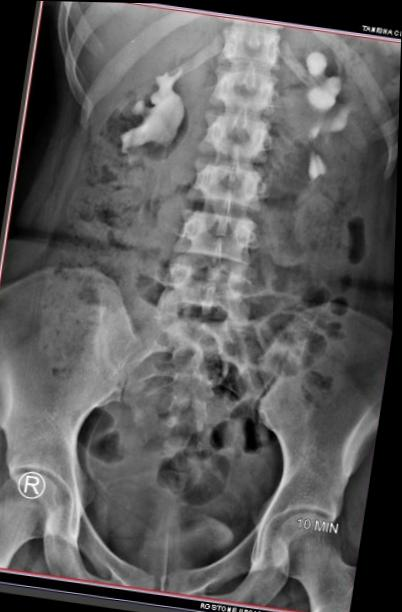right kidney: (71, 33, 198, 206)
vertebrae: (202, 54, 280, 112)
